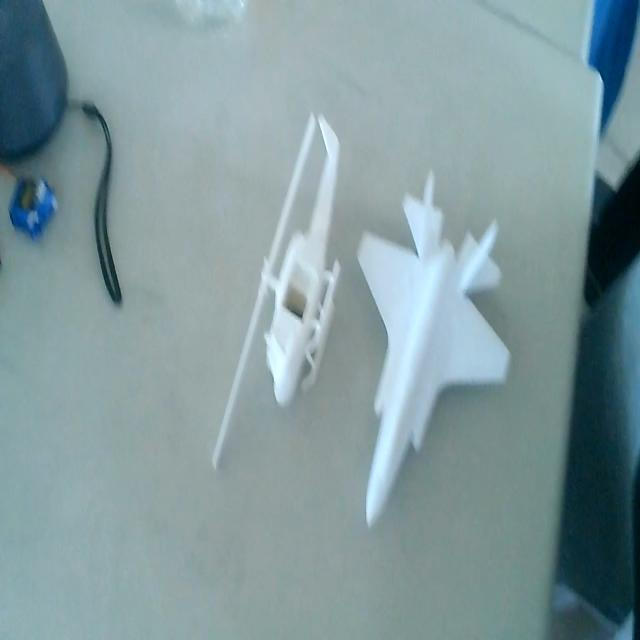Helicopter: (212, 115, 342, 478)
Jet: (356, 169, 513, 524)
